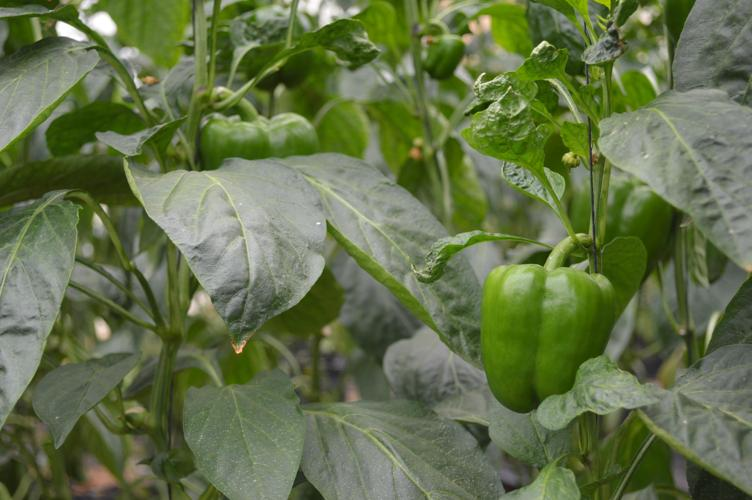BellPepper: (468, 258, 632, 427), (559, 168, 672, 266), (192, 106, 327, 172)
